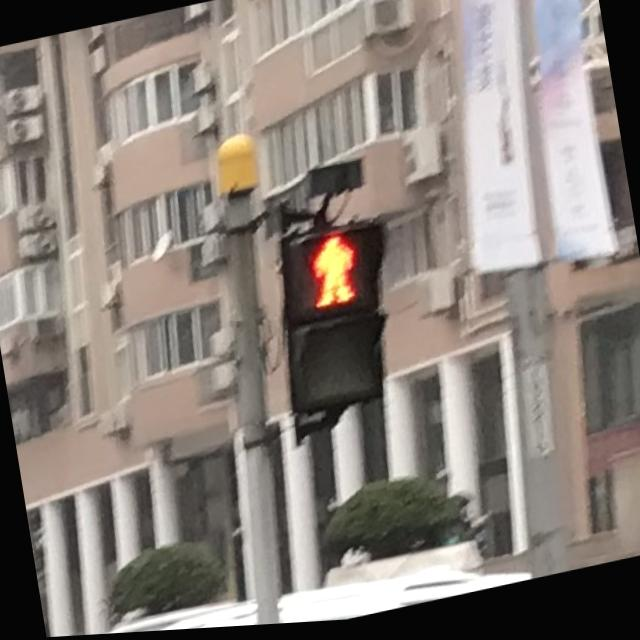red_light: (290, 227, 371, 318)
